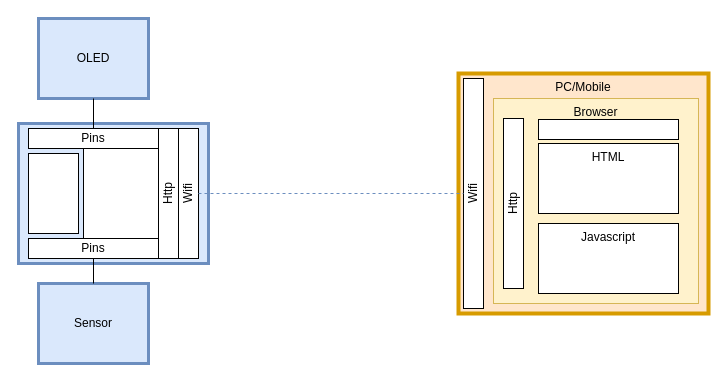
Image size: 728x382. Some labels were removed from this diagram. The centre of each missing label's shape, as x and y in pixels:
C++: the point at 120,193
ESP32: the point at 53,193
URL: the point at 608,129
